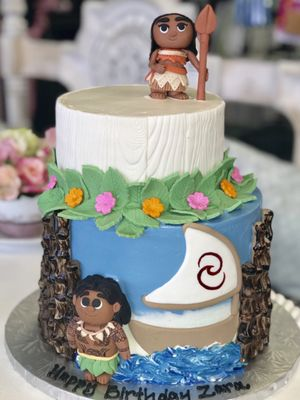sushi: (26, 27, 285, 381)
